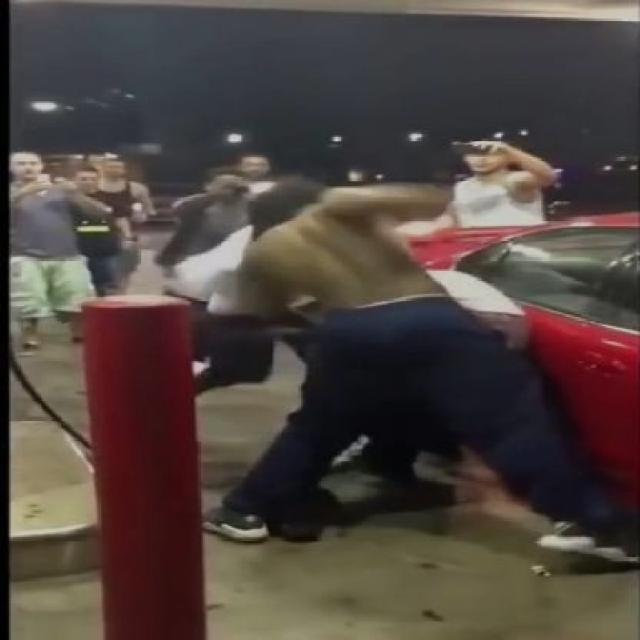fight: (155, 165, 636, 609)
